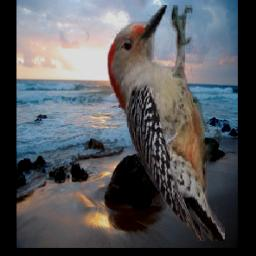Woodpecker: (107, 5, 225, 241)
